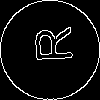R: (25, 25, 73, 64)
